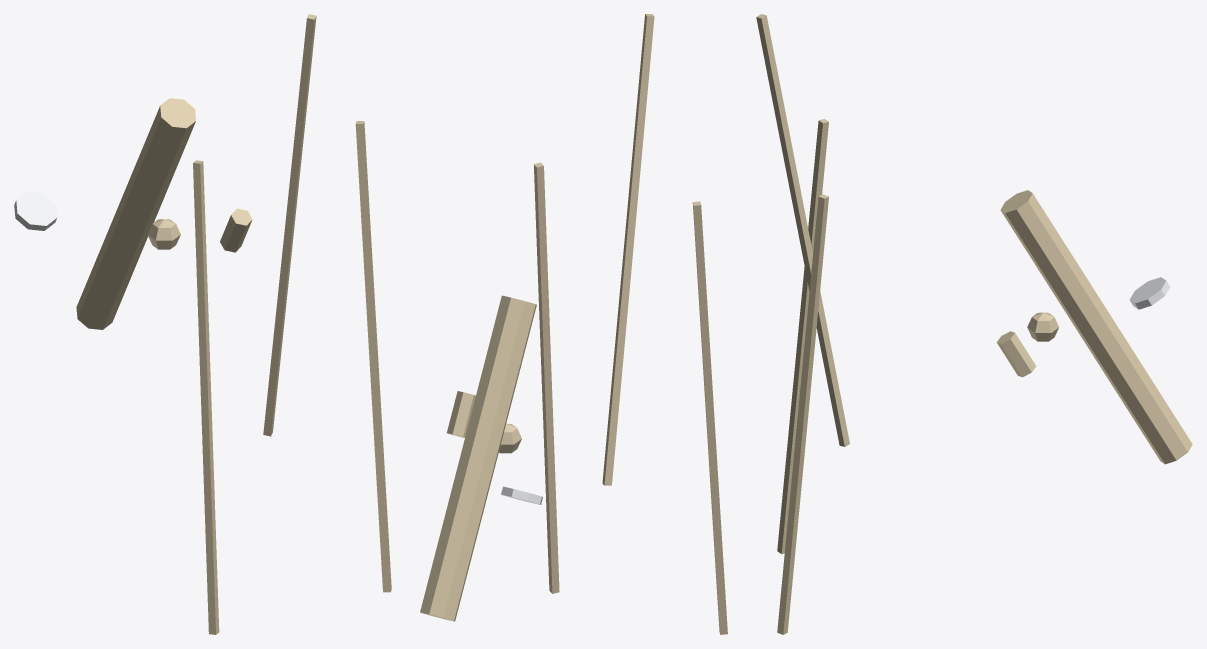
Rendered from telescope.glb.
3 views of the same model, side by side, from view 1: azimuth 30°, elevation 25°; view 2: azimuth 150°, elevation 25°; view 3: azimuth 270°, elevation 25° (orthographic). The views are drawn at different scales.
Parts seen in each view (by area): view 1: Telescope; view 2: Telescope; view 3: Telescope.
Part boxes in pixels (x1,y1,x2,y2): Telescope: [14, 14, 391, 634]; Telescope: [420, 14, 727, 634]; Telescope: [756, 14, 1192, 634].
Size of the model in its own units: 0.379 by 1.19 by 0.8183.
